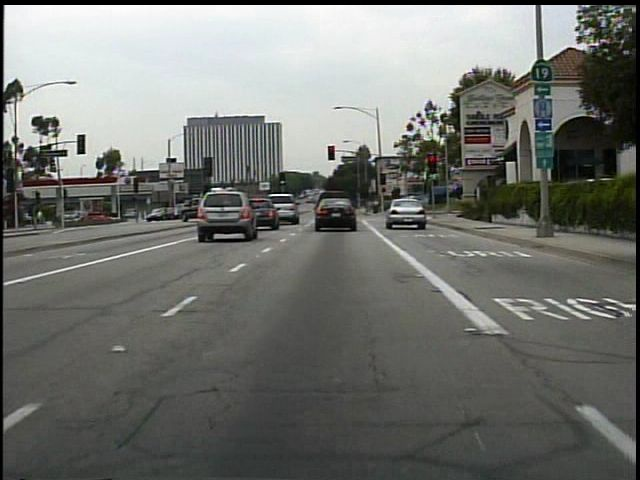person: (370, 197, 381, 217)
